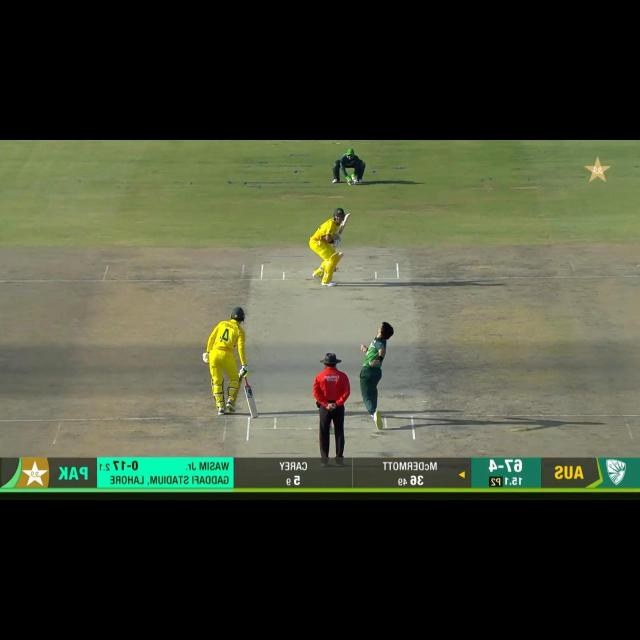bat: (245, 384, 259, 420), (335, 212, 352, 235)
toe: (248, 409, 258, 418), (345, 212, 352, 218)
